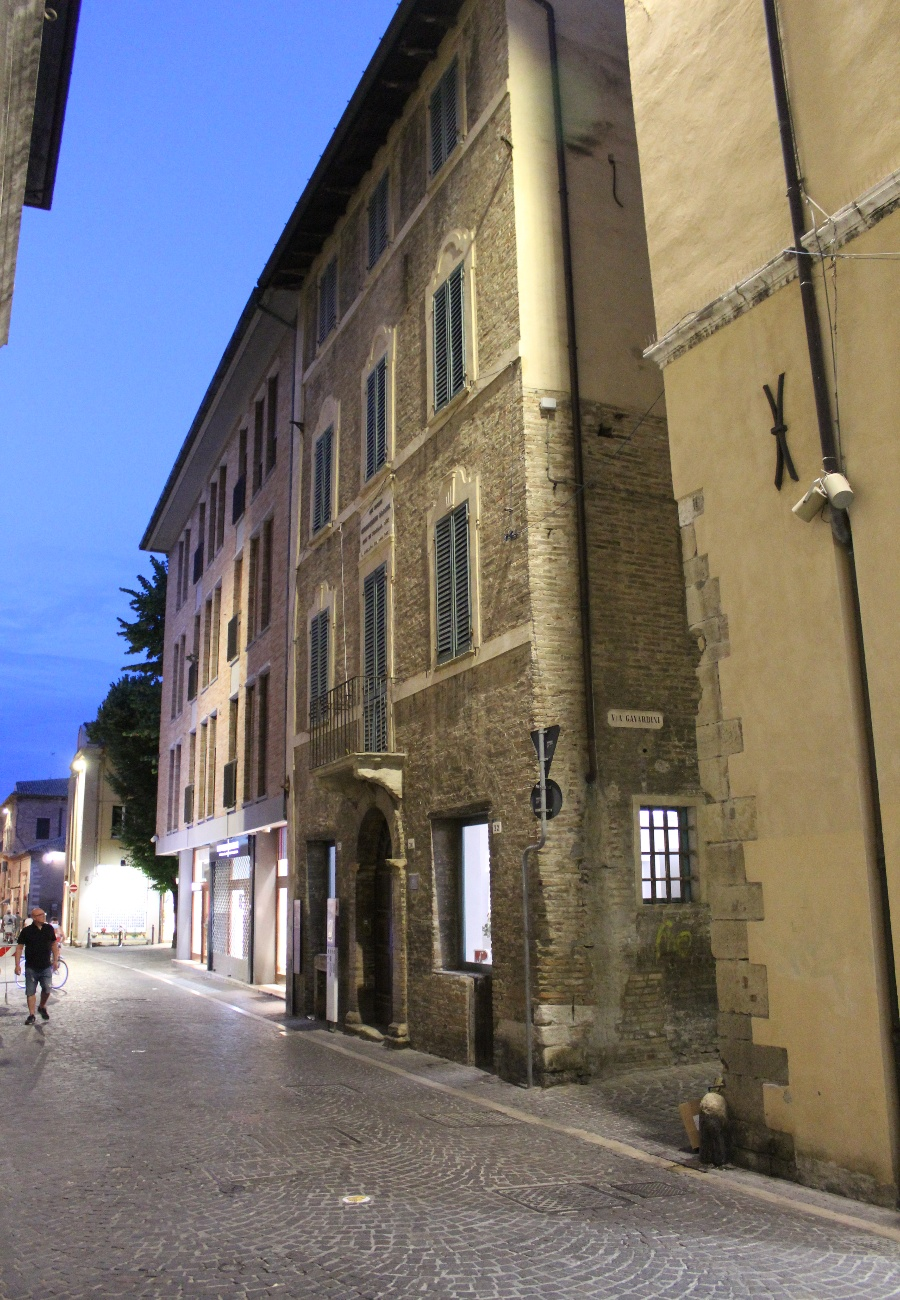Casa Rossini: (275, 30, 537, 1084)
